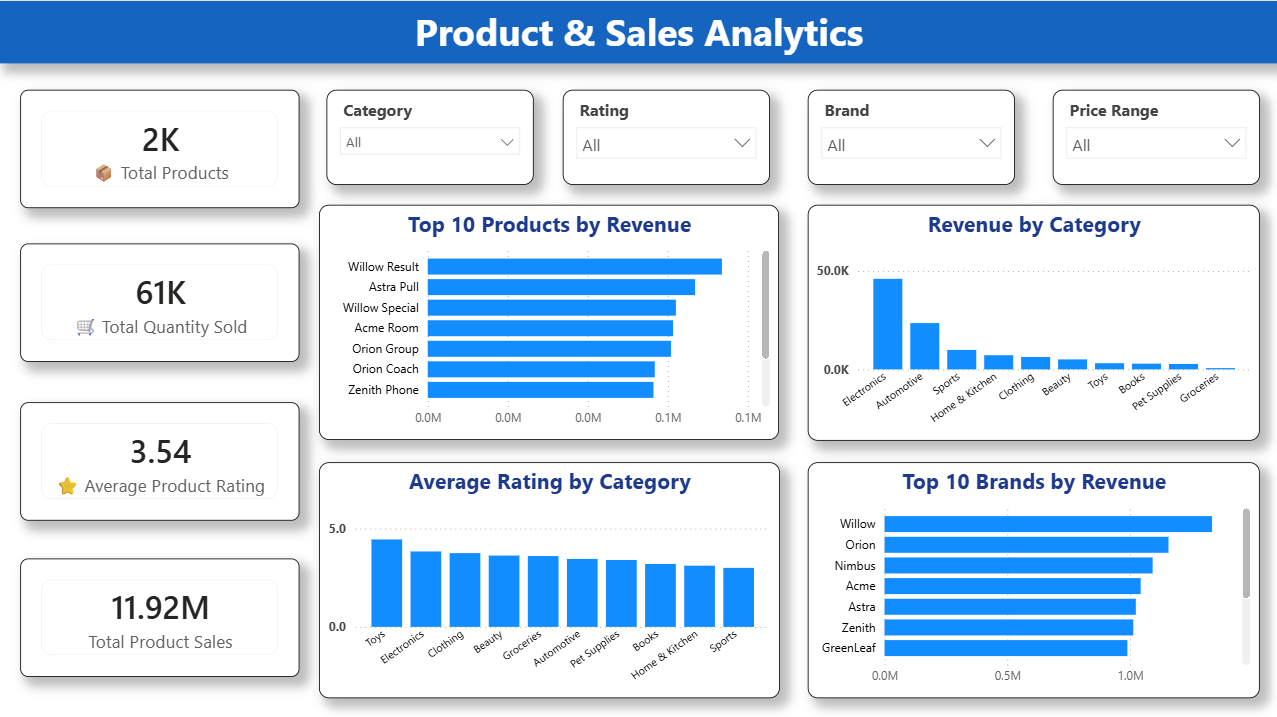

Layout of this report page (visuals, bound fields, positions):
{"tool":"powerbi","page":{"name":"Product & Sales Analytics","canvas":[1280,720],"ordinal":2},"visuals":[{"type":"textbox","box":[0,0,1280,62.7],"z":0},{"type":"cardVisual","fields":{"Data":["events.Total Products"]},"box":[21.2,88.6,279.5,118.5],"z":1000},{"type":"cardVisual","fields":{"Data":["products.Average Product Rating"]},"box":[21.2,401.8,279.5,118.5],"z":2000},{"type":"cardVisual","fields":{"Data":["products.Total Product Sales"]},"box":[21.2,557.8,279.5,118.5],"z":3000},{"type":"cardVisual","fields":{"Data":["orders.Total Quantity Sold"]},"box":[21.2,242.1,279.5,118.5],"z":4000},{"type":"slicer","fields":{"Values":["products.category"]},"box":[326.9,88.6,207.1,94.8],"z":5000},{"type":"slicer","fields":{"Values":["products.brand"]},"box":[808.6,88.6,207.1,94.8],"z":6000},{"type":"slicer","fields":{"Values":["products.rating"]},"box":[564,88.6,207.1,94.8],"z":7000},{"type":"slicer","fields":{"Values":["products.price"]},"box":[1053.2,88.6,207.1,94.8],"z":8000},{"type":"clusteredBarChart","title":"Top 10 Products by Revenue","fields":{"Category":["products.product_name"],"Y":["order_items.Product Revenue"]},"box":[320,203.8,460,235],"z":9000},{"type":"clusteredColumnChart","title":"Revenue by Category","fields":{"Category":["products.category"],"Y":["products.Total Product Sales"]},"box":[808.6,203.4,451.7,235.8],"z":10000},{"type":"clusteredColumnChart","title":"Average Rating by Category","fields":{"Category":["products.category"],"Y":["products.Average Product Rating"]},"box":[319.4,461.7,460.4,235.8],"z":11000},{"type":"clusteredBarChart","title":"Top 10 Brands by Revenue","fields":{"Category":["products.brand"],"Y":["products.Total Product Sales"]},"box":[808.6,461.7,451.7,235.8],"z":12000}]}

Visuals, with their boxes in screenshot pixels (x1, y1, x2, y2), scaled from the page's 1280x720 canvas onto the 1277x717 screenshot:
textbox: <box>0,0,1276,62</box>
cardVisual - events.Total Products: <box>21,88,300,206</box>
cardVisual - products.Average Product Rating: <box>21,400,300,518</box>
cardVisual - products.Total Product Sales: <box>21,555,300,673</box>
cardVisual - orders.Total Quantity Sold: <box>21,241,300,359</box>
slicer - products.category: <box>326,88,533,183</box>
slicer - products.brand: <box>807,88,1013,183</box>
slicer - products.rating: <box>563,88,769,183</box>
slicer - products.price: <box>1051,88,1257,183</box>
"Top 10 Products by Revenue" clusteredBarChart: <box>319,203,778,437</box>
"Revenue by Category" clusteredColumnChart: <box>807,203,1257,437</box>
"Average Rating by Category" clusteredColumnChart: <box>319,460,778,695</box>
"Top 10 Brands by Revenue" clusteredBarChart: <box>807,460,1257,695</box>
